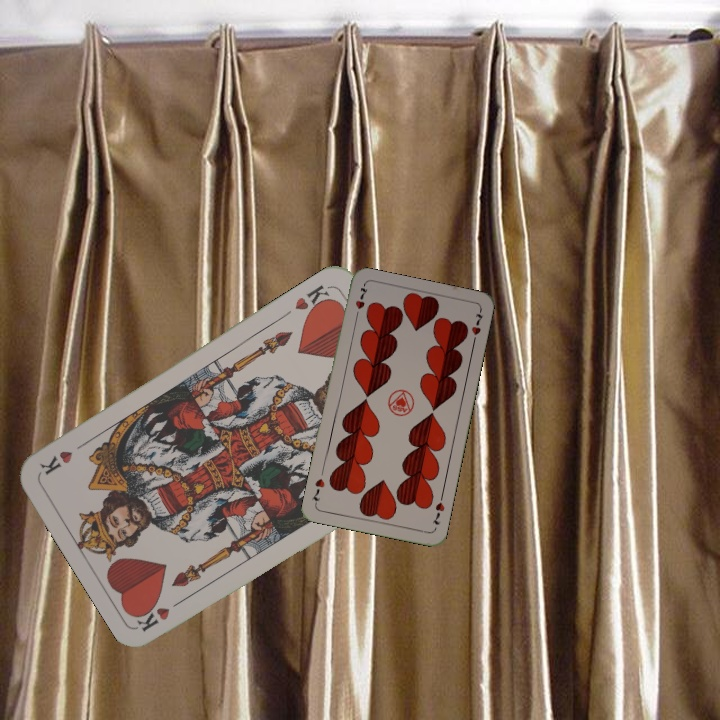H7: (351, 282, 370, 322), (429, 491, 447, 527)
HK: (132, 593, 190, 634), (290, 280, 337, 319)
